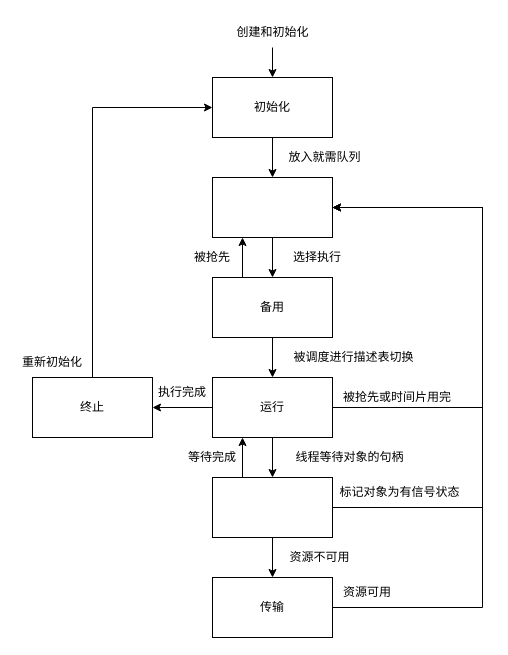
Image size: 508x655. Some labels were removed from this diagram. Here are the shapes that lost their labels. From the top down, the box of each, then its label:
(212, 176, 332, 238): 就绪
(212, 476, 332, 538): 等待
